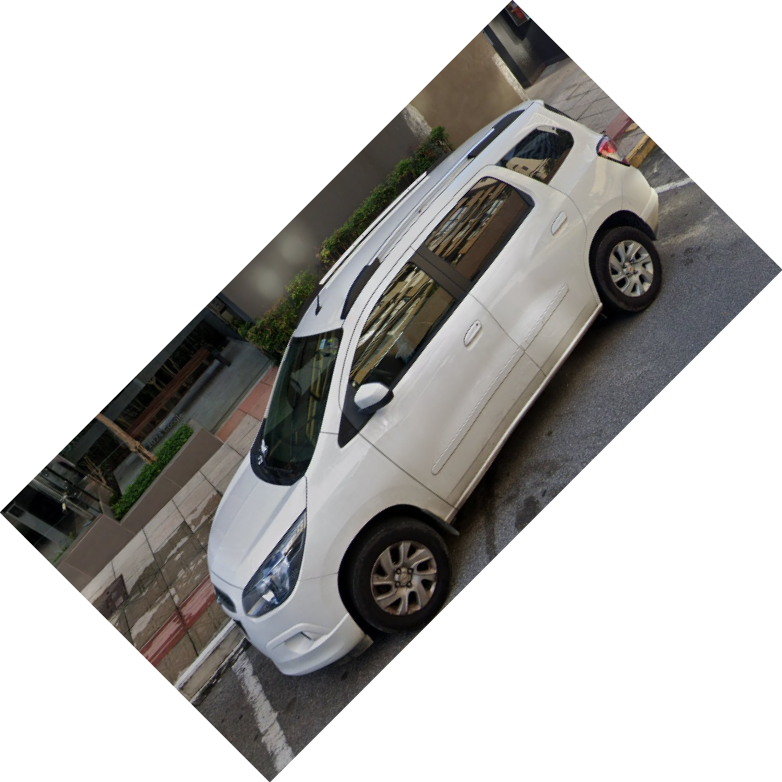car: (204, 100, 667, 677)
